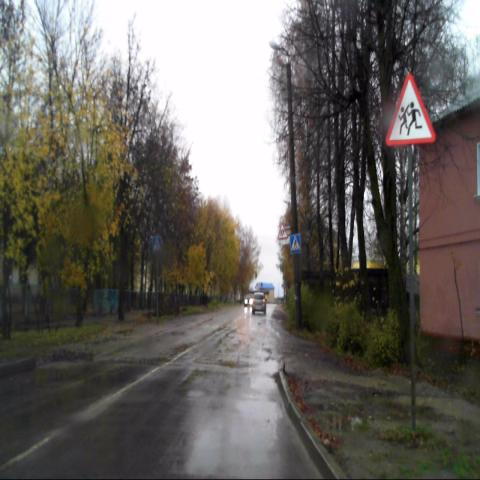1_23: (386, 72, 435, 147), (278, 223, 287, 239)
5_19_1: (290, 234, 300, 254), (152, 235, 162, 251)
